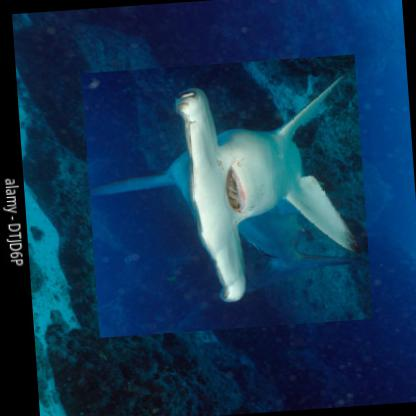hammerhead_Shark: (80, 53, 373, 338)
